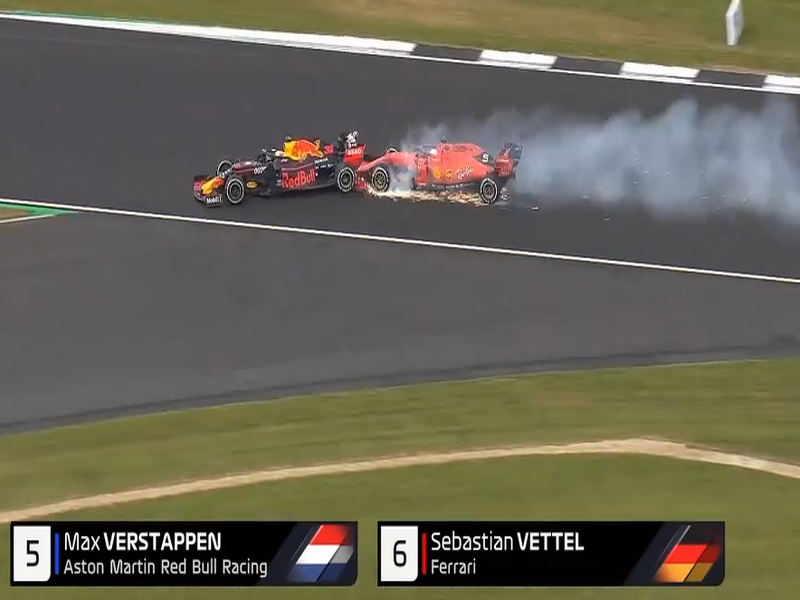f1: (380, 115, 529, 223), (180, 131, 372, 208)
